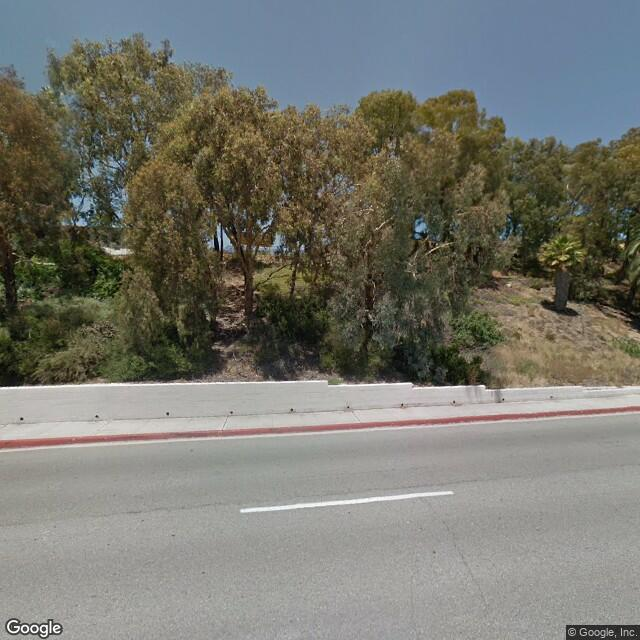litter: (169, 532, 172, 536)
